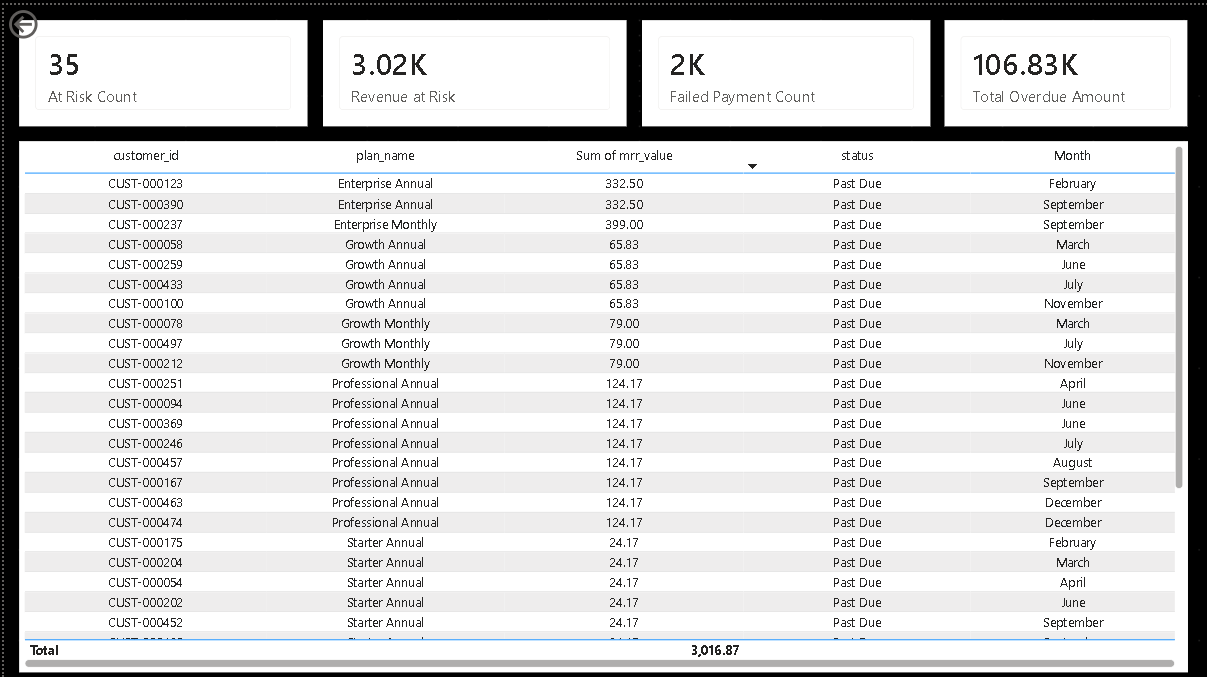

This screenshot's page, from the dashboard's own definition file:
{"tool":"powerbi","page":{"name":" At-Risk Customers","canvas":[1280,720],"ordinal":4},"visuals":[{"type":"cardVisual","fields":{"Data":["_Measures.At Risk Count"]},"box":[16,16,224,112],"z":0},{"type":"cardVisual","fields":{"Data":["_Measures.Revenue at Risk"]},"box":[256,16,224,112],"z":1},{"type":"cardVisual","fields":{"Data":["_Measures.Failed Payment Count"]},"box":[496,16,224,112],"z":2},{"type":"cardVisual","fields":{"Data":["_Measures.Total Overdue Amount"]},"box":[736,16,224,112],"z":3},{"type":"tableEx","fields":{"Values":["public subscriptions.customer_id","public customers.customer_segment","public plans.plan_name","Sum(public subscriptions.mrr_value)","public subscriptions.status","public subscriptions.renewal_date.Variation.Date Hierarchy.Month"]},"box":[16,144,944,560],"z":4},{"type":"actionButton","box":[0,0,100,40],"z":5}]}

Visuals, with their boxes in screenshot pixels (x1, y1, x2, y2), scaled from the page's 1280x720 canvas onto the 1207x677 screenshot:
cardVisual - _Measures.At Risk Count: <region>15, 15, 226, 120</region>
cardVisual - _Measures.Revenue at Risk: <region>241, 15, 453, 120</region>
cardVisual - _Measures.Failed Payment Count: <region>468, 15, 679, 120</region>
cardVisual - _Measures.Total Overdue Amount: <region>694, 15, 905, 120</region>
tableEx - public subscriptions.customer_id x public customers.customer_segment: <region>15, 135, 905, 662</region>
actionButton: <region>0, 0, 94, 38</region>
